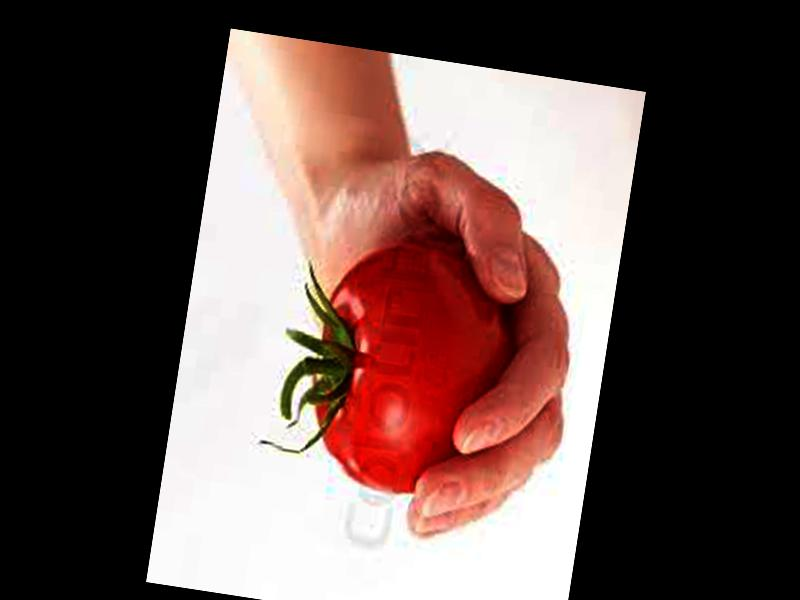Tomato: (297, 235, 524, 507)
